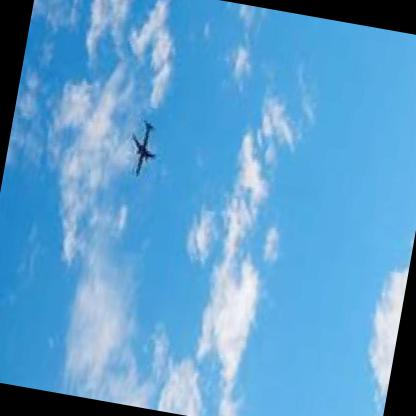plane: (122, 105, 165, 184)
